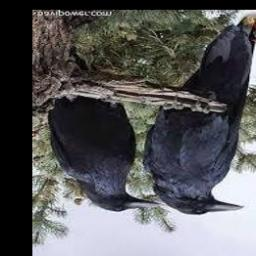Crow: (142, 20, 256, 215), (46, 94, 160, 212)
